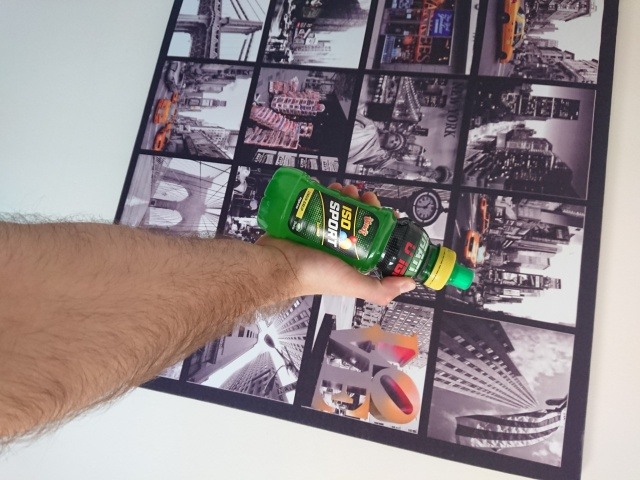Vindi Iso Sport Lemon-Grapefruit 500mL: (254, 164, 476, 294)
